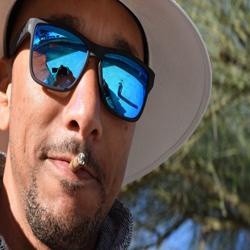smoking: (44, 146, 101, 186)
